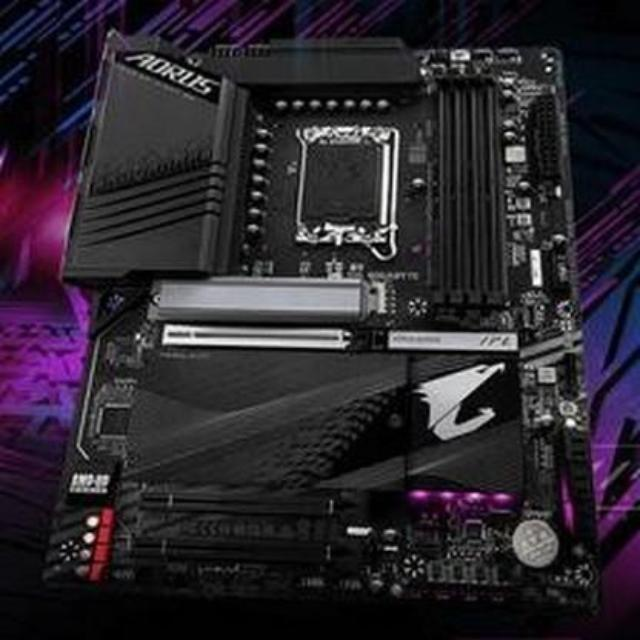Mainboard: (48, 25, 612, 630)
